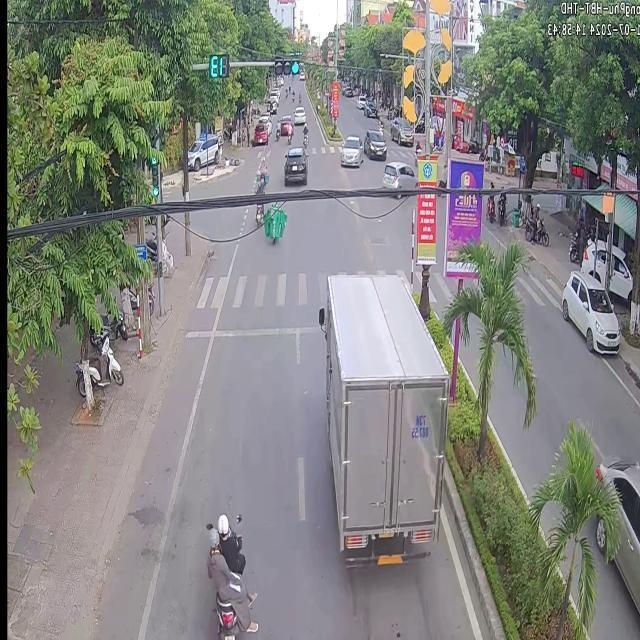car: (317, 274, 447, 564), (594, 454, 638, 608), (559, 269, 619, 354), (380, 160, 414, 187), (282, 145, 306, 182), (362, 127, 386, 157), (339, 134, 359, 165), (594, 516, 603, 550)
green_light: (209, 54, 229, 79), (274, 58, 299, 75), (151, 151, 158, 200)
motobike: (214, 594, 238, 638)
stop_line: (184, 325, 317, 336)
